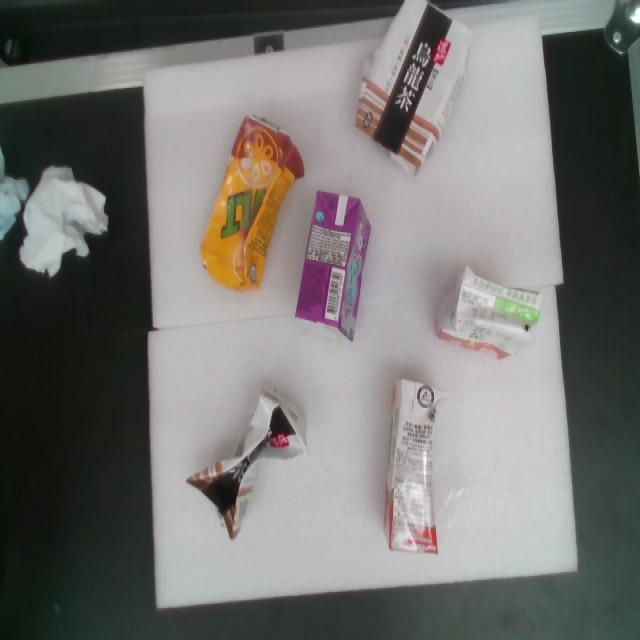juicebox: (156, 370, 348, 570), (171, 101, 328, 310), (328, 0, 496, 195), (366, 359, 478, 573), (282, 176, 389, 356), (412, 246, 556, 379)
